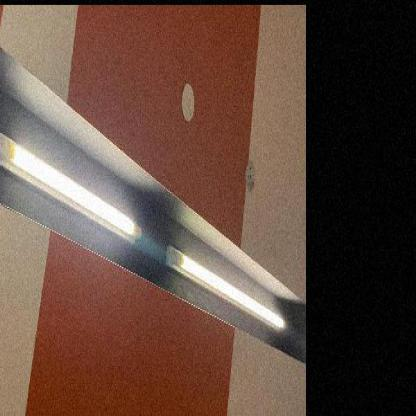light_on: (0, 112, 144, 253), (161, 229, 289, 356)
